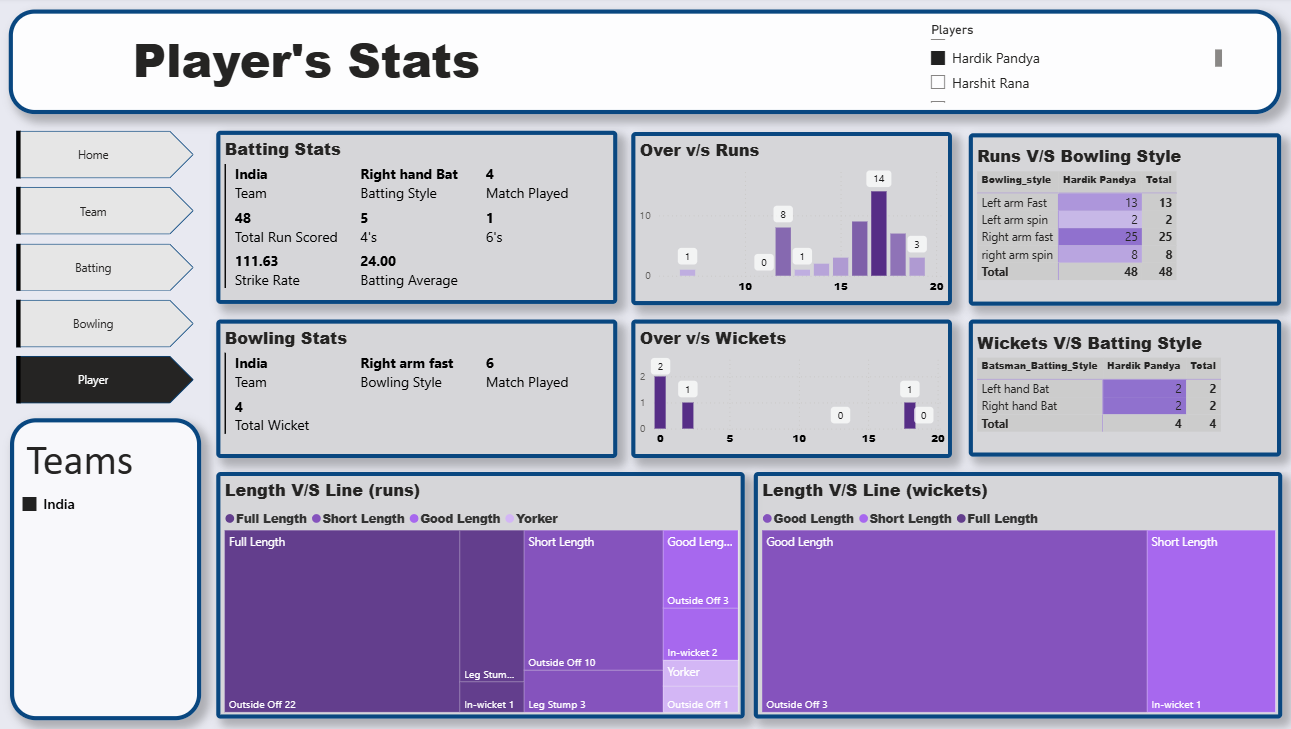

The page's visual inventory and layout, read from the dashboard file:
{"tool":"powerbi","page":{"name":"Player","canvas":[1500,850],"ordinal":4},"visuals":[{"type":"textbox","box":[9.6,14.5,1469.8,120.6],"z":0},{"type":"pageNavigator","box":[18.3,155,205,316.7],"z":1000},{"type":"textbox","box":[10.8,486.3,220.5,348.9],"z":2000},{"type":"slicer","fields":{"Values":["player.team"]},"box":[13.5,565.2,209,269.1],"z":3000},{"type":"slicer","fields":{"Values":["player.players"]},"box":[1062.9,24.1,353.8,102.9],"z":4000},{"type":"multiRowCard","title":"Batting Stats","fields":{"Values":["player.team","player.batting_style","ball_by_ball.match_id","Sum(ball_by_ball.Run_scored)","ball_by_ball.4's","ball_by_ball.6's","ball_by_ball.Strike Rate","ball_by_ball.Batting Average"]},"box":[249.3,154.4,463.1,200],"z":5000},{"type":"multiRowCard","title":"Bowling Stats","fields":{"Values":["bowling.Bowler_Team","bowling.Bowling_style","Count(bowling.Match_id)","Sum(bowling.Wicket)"]},"box":[249.3,373.1,463.1,160],"z":6000},{"type":"lineClusteredColumnComboChart","title":"Over v/s Runs","fields":{"Category":["page_ball_by_ball.over_number"],"Y":["Sum(page_ball_by_ball.Run_scored)"]},"box":[728.5,156,370,200],"z":7000},{"type":"treemap","title":"Length V/S Line (runs)","fields":{"Group":["ball_by_ball.Ball_length"],"Details":["ball_by_ball.Ball_line"],"Values":["Sum(ball_by_ball.Run_scored)"]},"box":[249.3,548.4,610,285],"z":8000},{"type":"lineClusteredColumnComboChart","title":"Over v/s Wickets","fields":{"Category":["bowling.Over_number"],"Y":["Sum(bowling.Wicket)"]},"box":[728.5,373.1,370,160],"z":9000},{"type":"treemap","title":"Length V/S Line (wickets)","fields":{"Group":["bowling.Ball_length"],"Details":["bowling.Ball_line"],"Values":["Sum(bowling.Wicket)"]},"box":[870,548.4,610,285],"z":10000},{"type":"pivotTable","title":"Runs V/S Bowling Style","fields":{"Rows":["ball_by_ball.Bowling_style"],"Columns":["ball_by_ball.Batsman_name"],"Values":["Sum(ball_by_ball.Run_scored)"]},"box":[1118.8,157.4,360.9,199.2],"z":11000},{"type":"pivotTable","title":"Wickets V/S Batting Style","fields":{"Values":["Sum(bowling.Wicket)"],"Columns":["bowling.Bowler_Name"],"Rows":["bowling.Batsman_Batting_Style"]},"box":[1118.8,372.5,360.9,158.8],"z":12000}]}

Visuals, with their boxes in screenshot pixels (x1, y1, x2, y2), scaled from the page's 1500x850 canvas onto the 1291x729 screenshot:
textbox: pyautogui.locateOnScreen(8, 12, 1273, 116)
pageNavigator: pyautogui.locateOnScreen(16, 133, 192, 405)
textbox: pyautogui.locateOnScreen(9, 417, 199, 716)
slicer - player.team: pyautogui.locateOnScreen(12, 485, 191, 716)
slicer - player.players: pyautogui.locateOnScreen(915, 21, 1219, 109)
"Batting Stats" multiRowCard: pyautogui.locateOnScreen(215, 132, 613, 304)
"Bowling Stats" multiRowCard: pyautogui.locateOnScreen(215, 320, 613, 457)
"Over v/s Runs" lineClusteredColumnComboChart: pyautogui.locateOnScreen(627, 134, 945, 305)
"Length V/S Line (runs)" treemap: pyautogui.locateOnScreen(215, 470, 740, 715)
"Over v/s Wickets" lineClusteredColumnComboChart: pyautogui.locateOnScreen(627, 320, 945, 457)
"Length V/S Line (wickets)" treemap: pyautogui.locateOnScreen(749, 470, 1274, 715)
"Runs V/S Bowling Style" pivotTable: pyautogui.locateOnScreen(963, 135, 1274, 306)
"Wickets V/S Batting Style" pivotTable: pyautogui.locateOnScreen(963, 319, 1274, 456)
